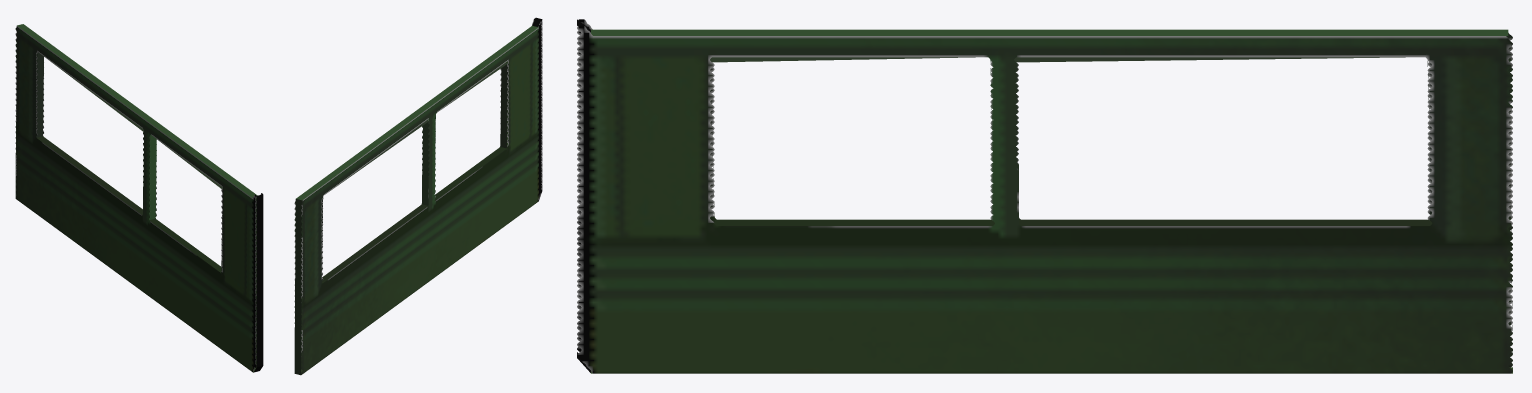
The model's file is pz_native_location_shop_greenes_01_75_frame.obj.
3 renders of one model, left to right at view 1: azimuth 30°, elevation 25°; view 2: azimuth 150°, elevation 25°; view 3: azimuth 270°, elevation 25°, orthographic. The views are drawn at different scales.
Parts seen in each view (by area): view 1: pz_native_location_shop_greenes_01_75_frame; view 2: pz_native_location_shop_greenes_01_75_frame; view 3: pz_native_location_shop_greenes_01_75_frame.
Boxes of the visible parts, bbox=[...] form: pz_native_location_shop_greenes_01_75_frame: bbox=[15, 24, 263, 372]; pz_native_location_shop_greenes_01_75_frame: bbox=[294, 17, 542, 375]; pz_native_location_shop_greenes_01_75_frame: bbox=[577, 19, 1512, 373].
Size of the model in its own units: 0.04 by 1.06 by 2.54.
1 material, 1 textured.
